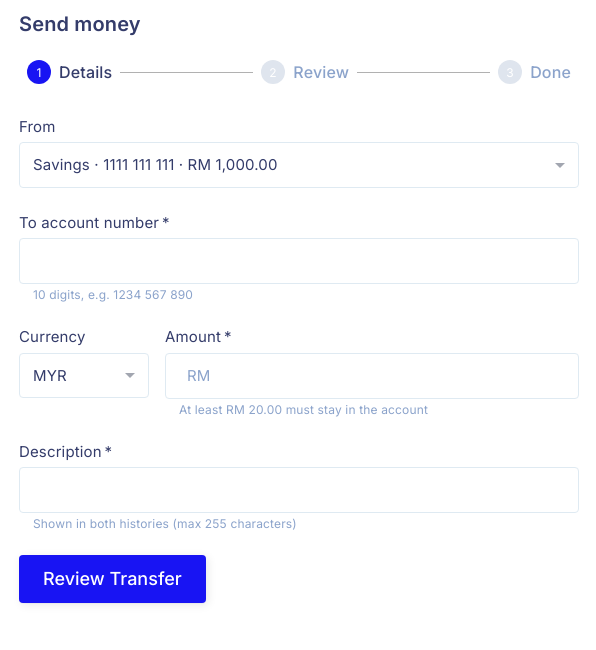
Test: foreign-currency transfer › checks JPY amounts for decimals before asking for a rate
In the field labelled "To account number *": [299, 261] box [19, 238, 579, 284], type "3333333333"
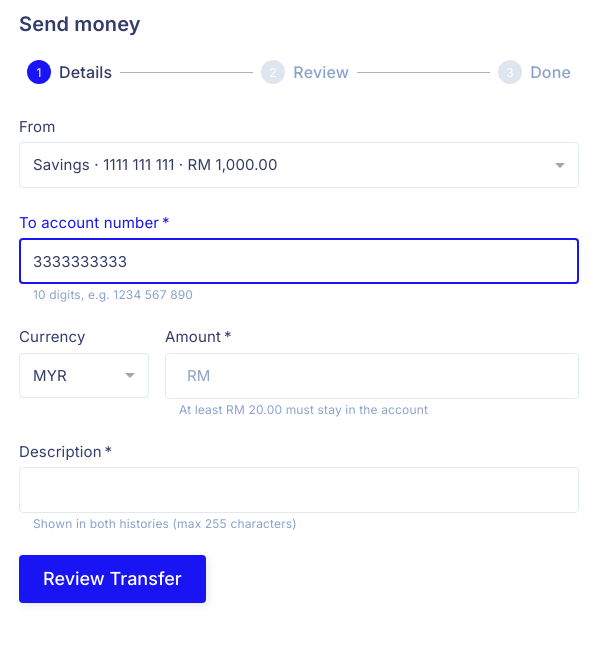
Click the dropdown named "currency": [50, 375] box [33, 366, 67, 385]
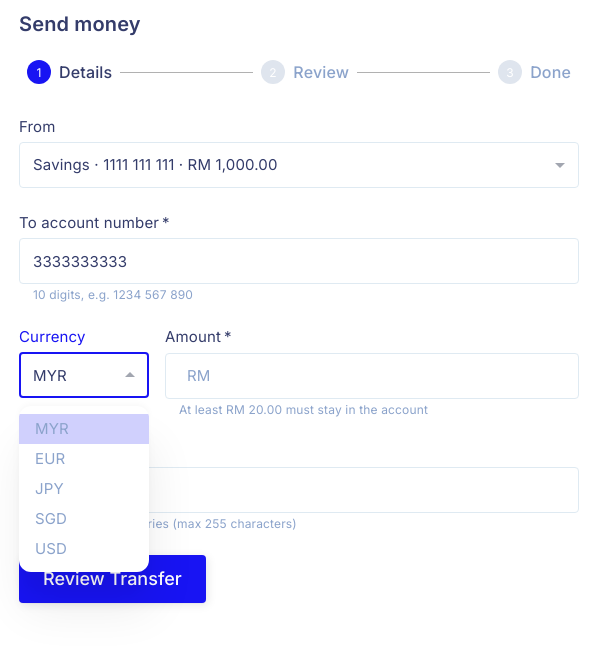
Click the option "JPY": [49, 488] box [35, 479, 64, 498]
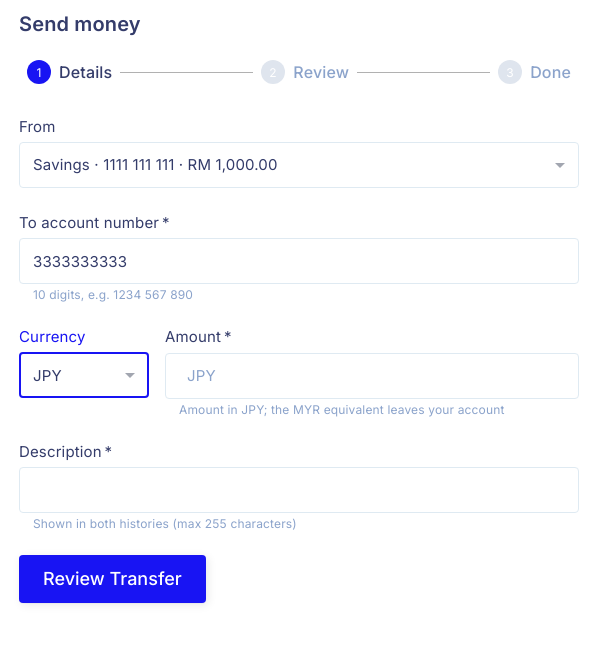
In the field labelled "Amount *": [399, 376] box [220, 353, 579, 399], type "10.5"
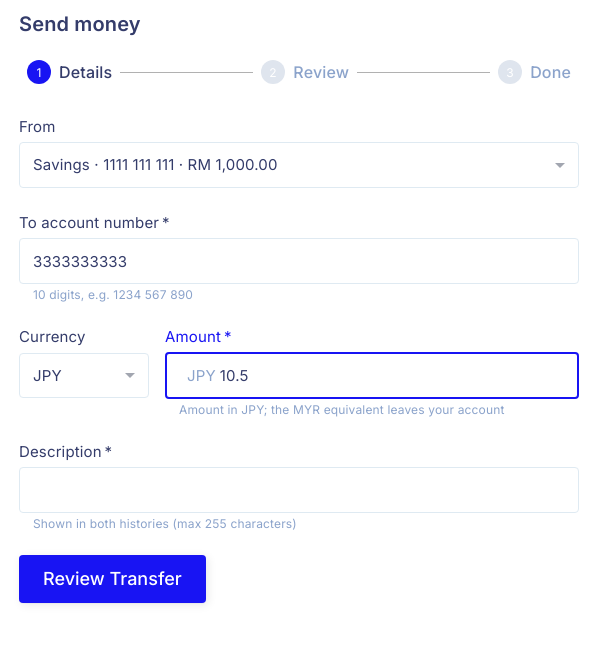
In the field labelled "Description *": [299, 490] box [19, 467, 579, 513], type "Snacks"
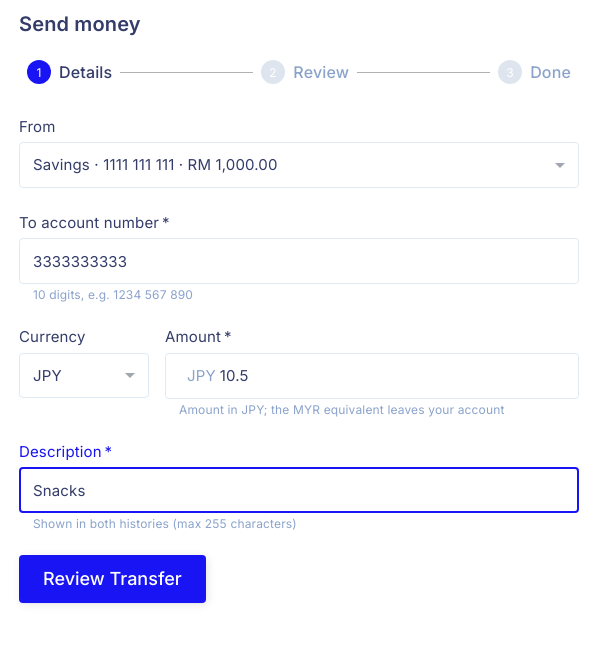
Click the button "Review transfer": [112, 579] box [19, 555, 206, 603]
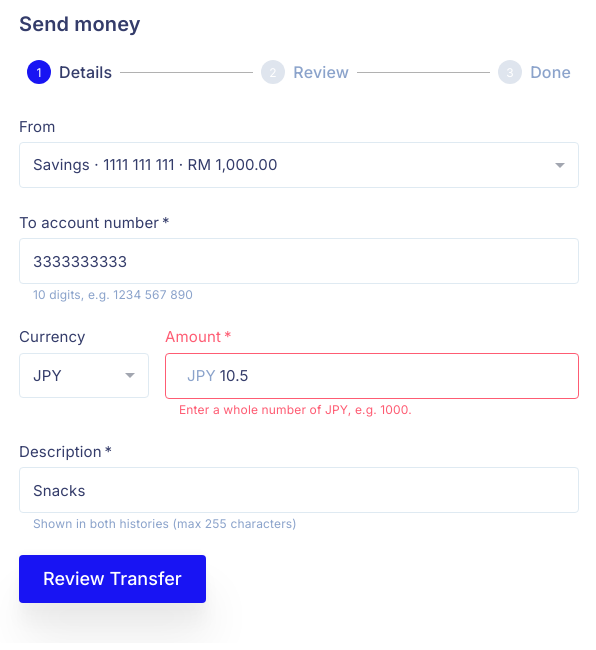
Now the text "Enter a whole number of JPY, e.g. 1000." is shown, box [179, 402, 412, 417]
